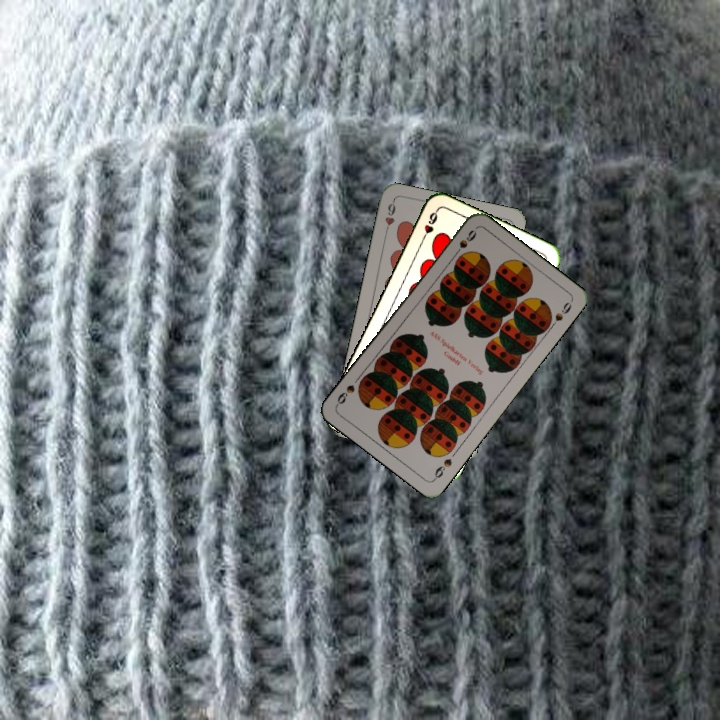H9: (417, 206, 440, 245), (381, 198, 398, 237)
S9: (449, 226, 479, 260), (430, 454, 455, 483)
